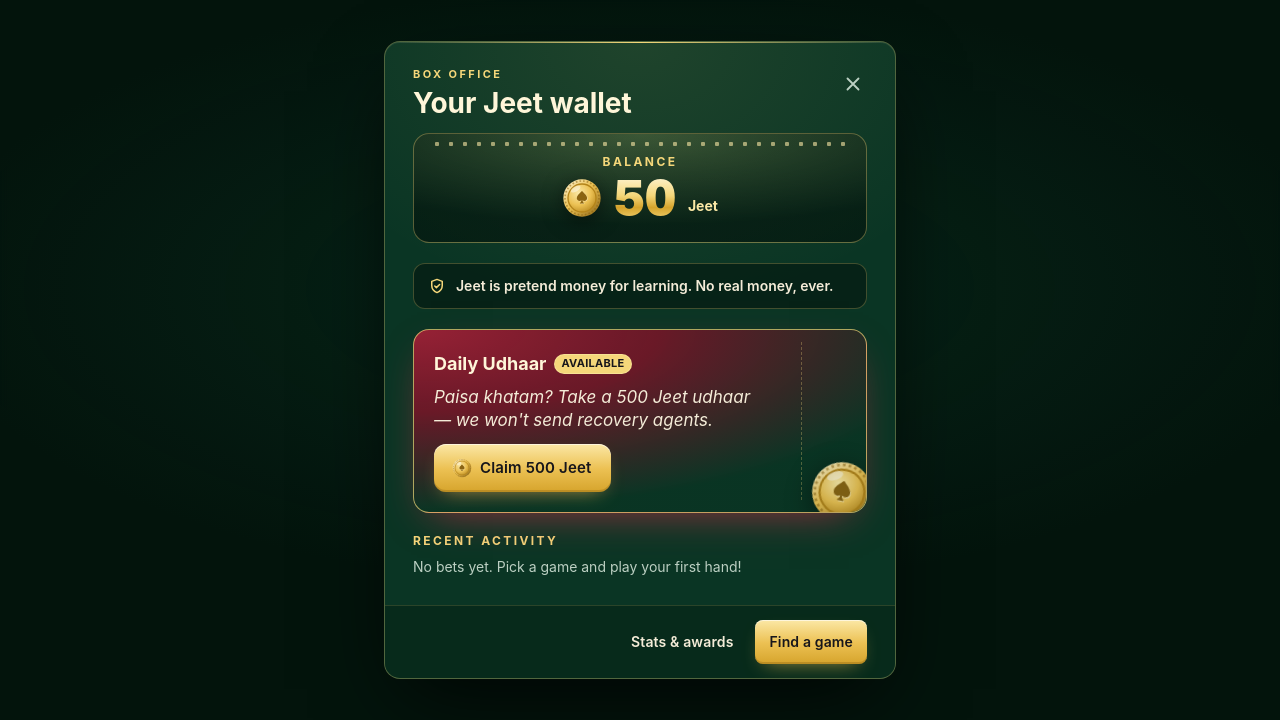
Scenario: WalletDialog › lets a broke learner claim the Daily Udhaar once, with a toast
Expected: the text "Paisa khatam? Take a 500 Jeet udhaar — we won't send recovery agents." is shown, left=434, top=386, right=766, bottom=432
Click the button "Claim 500 Jeet" at (523, 468), box left=434, top=444, right=611, bottom=492
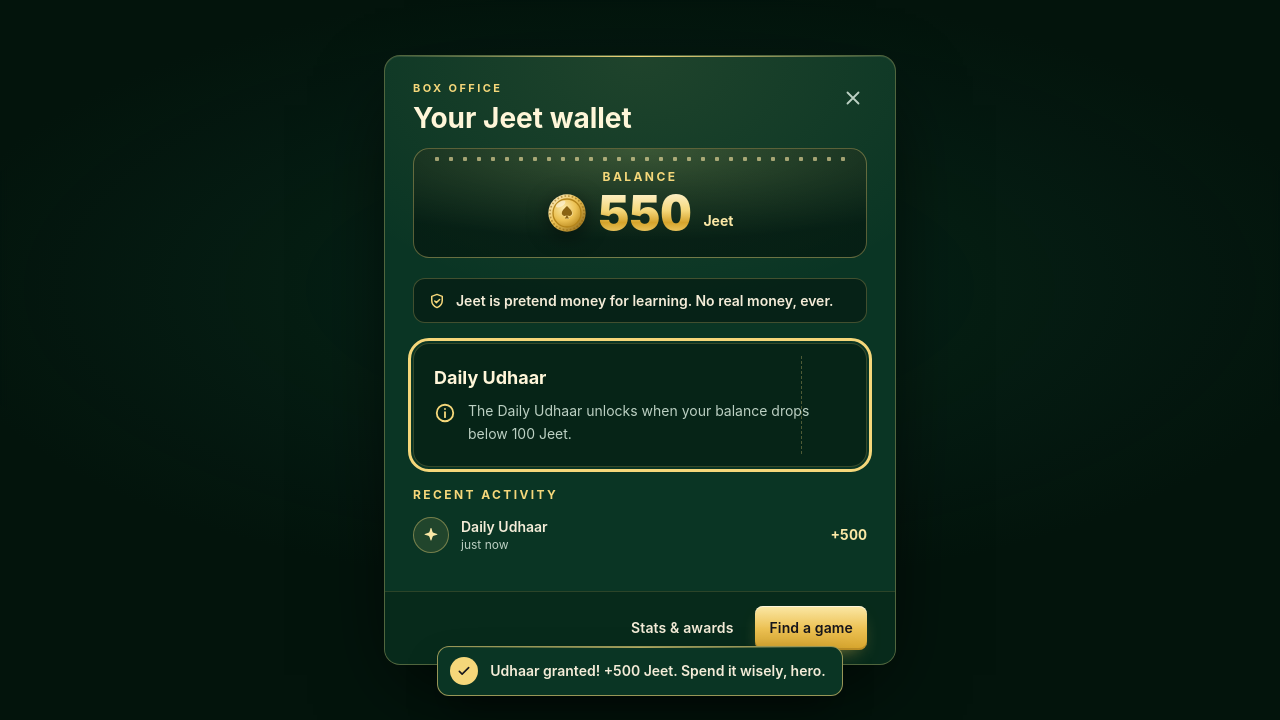
Expected: the heading "Daily Udhaar" is shown, left=434, top=364, right=546, bottom=392
Result: the element with test id "toast" shows "Udhaar granted! +500 Jeet" at left=490, top=662, right=826, bottom=679
Result: the button "Claim 500 Jeet" is gone
